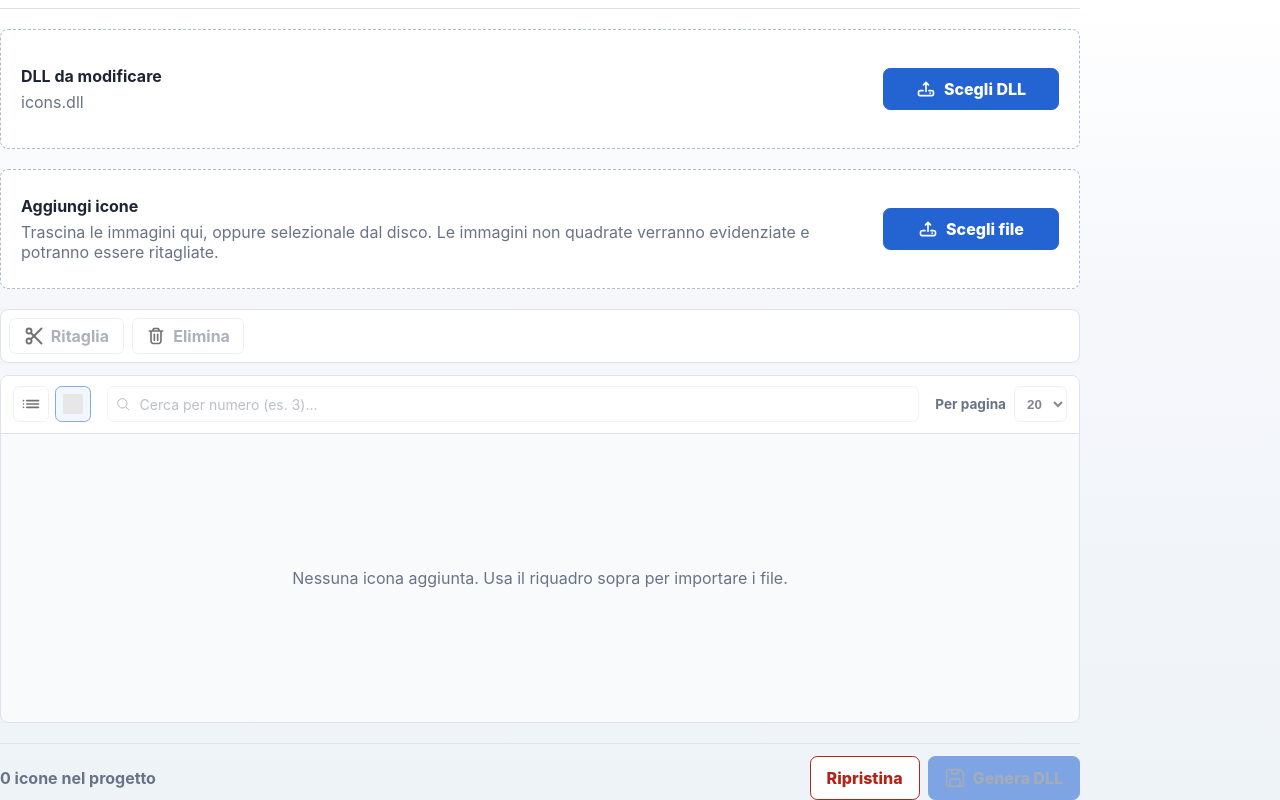
Test: ItemView › shows reset confirm dialog when reset button is clicked
This screenshot has width=1280, height=800.
(page scrolled)
Click the button "Ripristina". click: (865, 778)
box: [810,756,920,799]
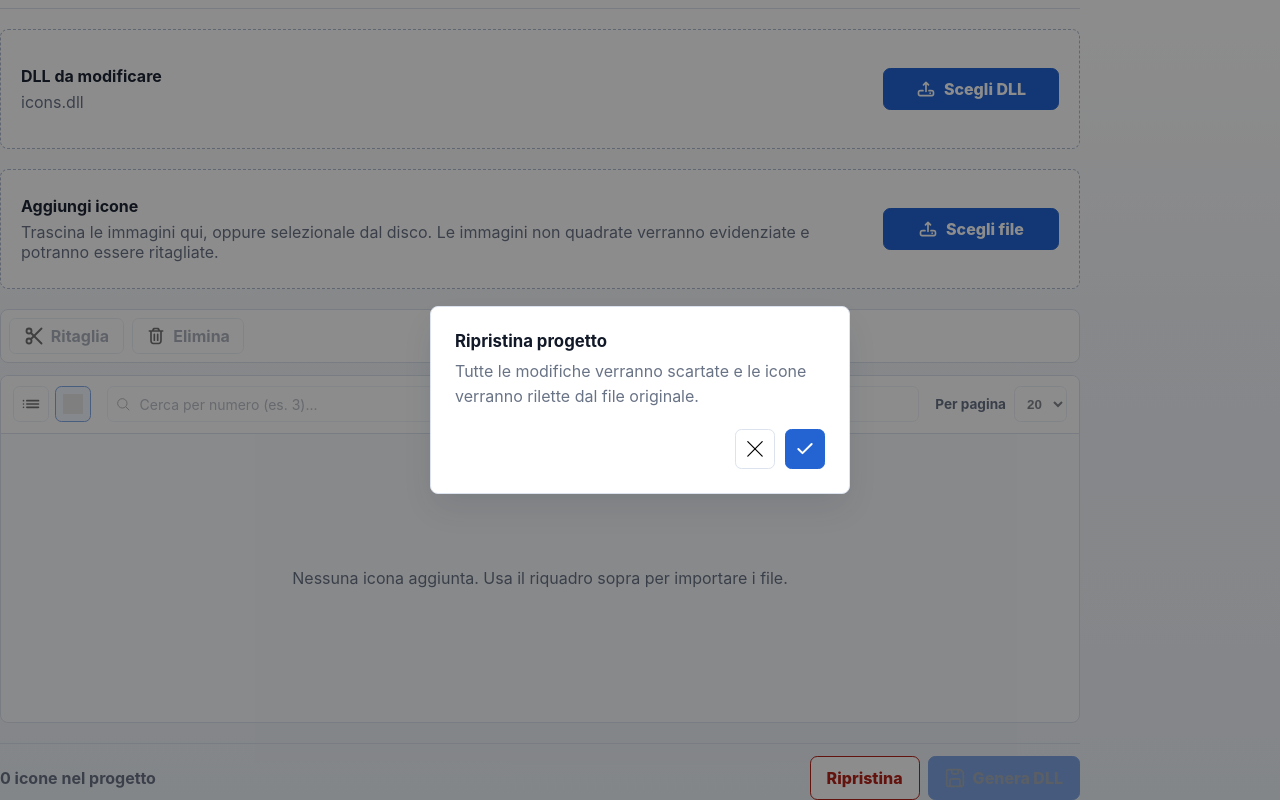
Expected: the heading "Ripristina progetto" is shown, [455,331,607,351]
